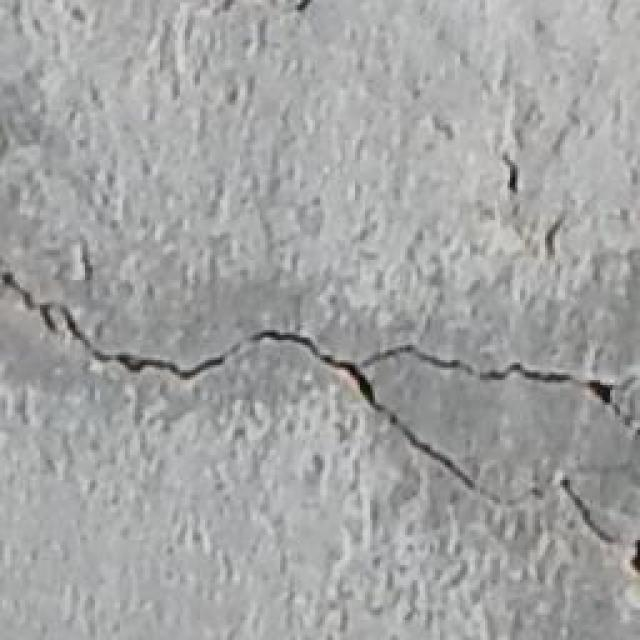concrete-crack: (0, 263, 637, 511), (557, 466, 632, 558)
